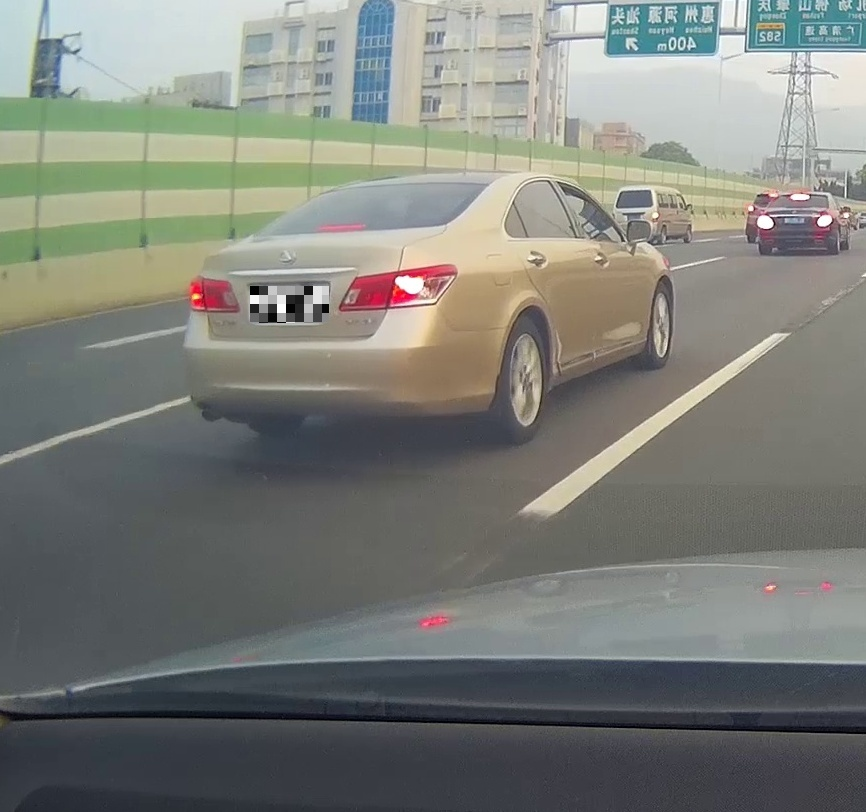L_light: (189, 274, 241, 314), (756, 215, 775, 230)
R_light: (339, 264, 458, 312), (815, 213, 833, 228)
T_light: (316, 223, 367, 232), (789, 194, 810, 201)
day-brake: (757, 191, 835, 256)
day-right: (184, 172, 504, 447)
plate_1: (250, 286, 329, 323)
